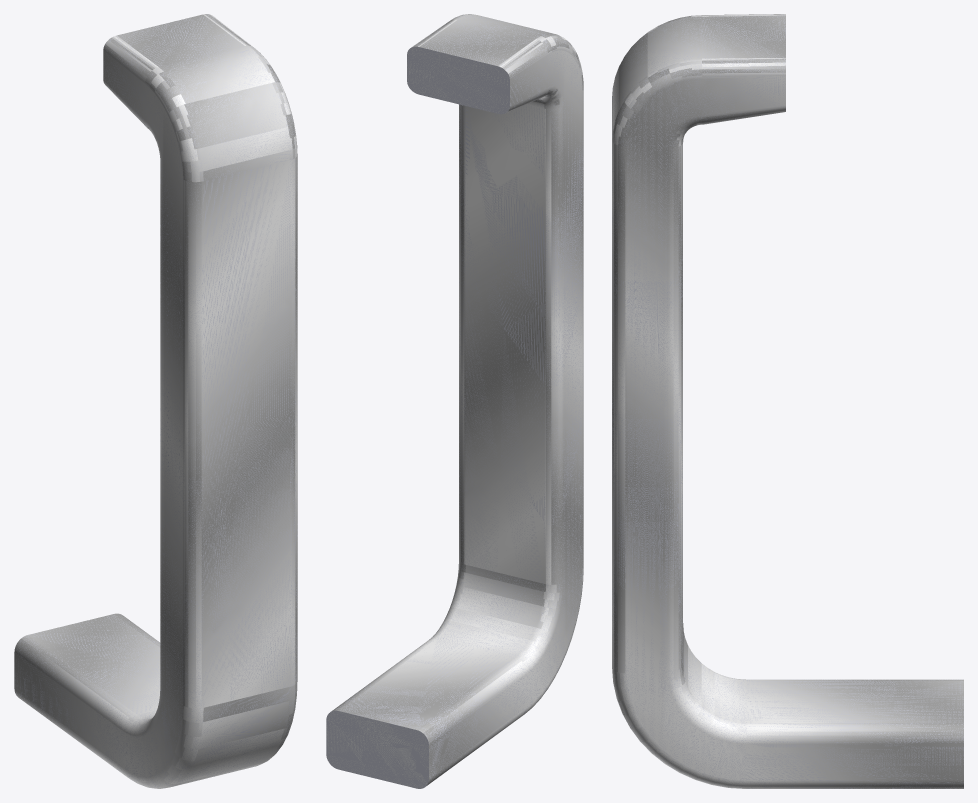
Rendered from 9969515-handle.dae.
3 renders of one model, left to right at view 1: azimuth 30°, elevation 25°; view 2: azimuth 150°, elevation 25°; view 3: azimuth 270°, elevation 25°, orthographic. The views are drawn at different scales.
Parts seen in each view (by area): view 1: group_2.206; view 2: group_2.206, group_2.205, group_2.172; view 3: group_2.206.
Part boxes in pixels (bbox=[...]): group_2.206: bbox=[14, 14, 297, 788]; group_2.206: bbox=[331, 14, 583, 785]; group_2.205: bbox=[326, 710, 428, 788]; group_2.172: bbox=[407, 46, 509, 114]; group_2.206: bbox=[612, 14, 963, 788].
Bounding box in the file's own units: 0.0169 × 0.0456 × 0.1043.
Materials: 3 (1 with a texture image).
